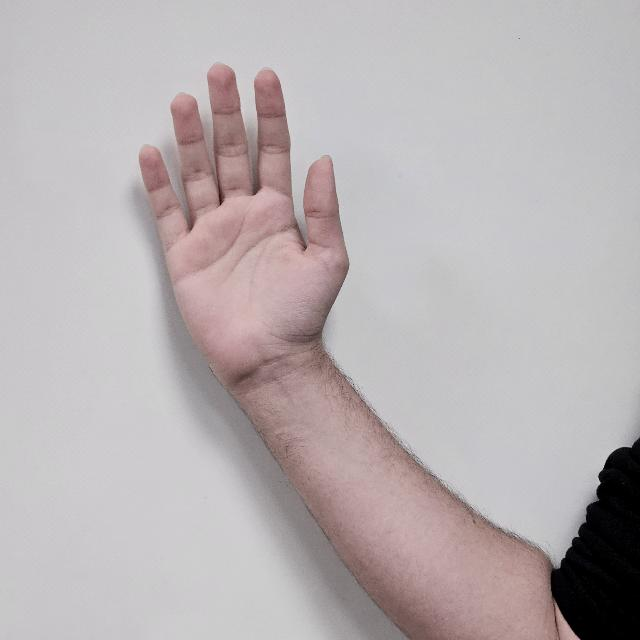X: (132, 61, 374, 400)
